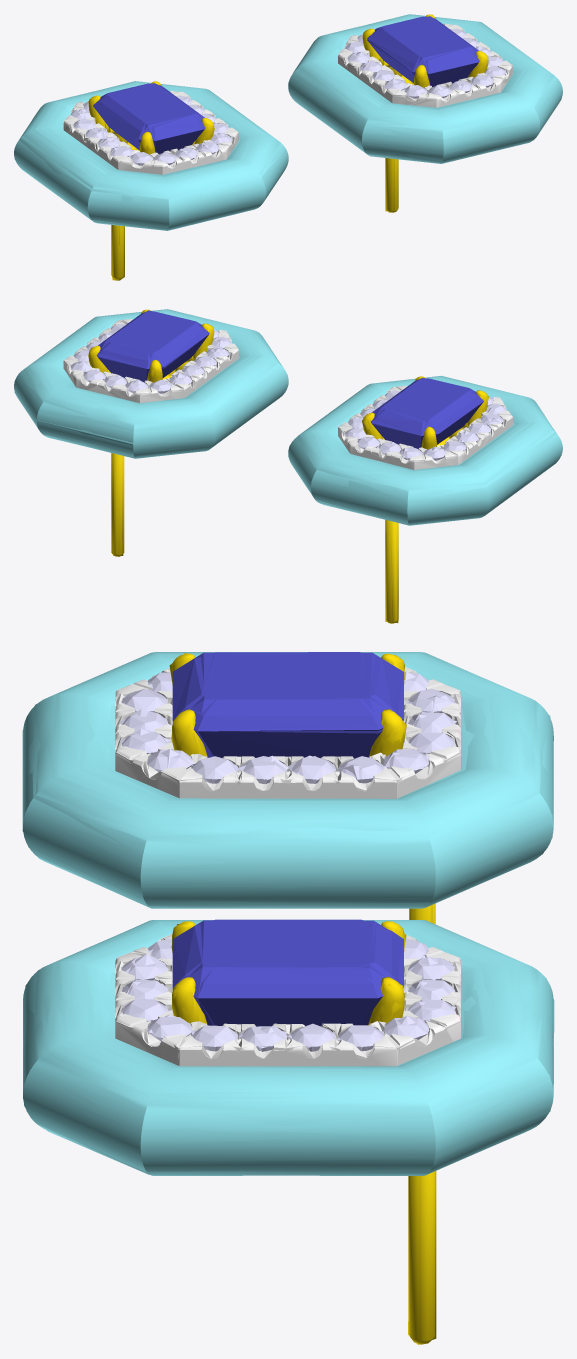
File: DTPN-D000677454.glb
The picture shows the model from 3 angles, top to bottom: view 1: azimuth 30°, elevation 25°; view 2: azimuth 150°, elevation 25°; view 3: azimuth 270°, elevation 25°; orthographic projection. The views are drawn at different scales.
Visible parts, largest first — view 1: highPolyMesh, lowPolyMesh; view 2: highPolyMesh, lowPolyMesh; view 3: highPolyMesh, lowPolyMesh.
Boxes of the visible parts, x1,y1,x2,y2 form: highPolyMesh: (14, 14, 562, 278); lowPolyMesh: (14, 14, 562, 280); highPolyMesh: (14, 309, 562, 623); lowPolyMesh: (14, 309, 562, 622); highPolyMesh: (23, 652, 553, 1344); lowPolyMesh: (22, 652, 554, 1344).
Size of the model in its own units: 0.0334 by 0.0134 by 0.0162.
